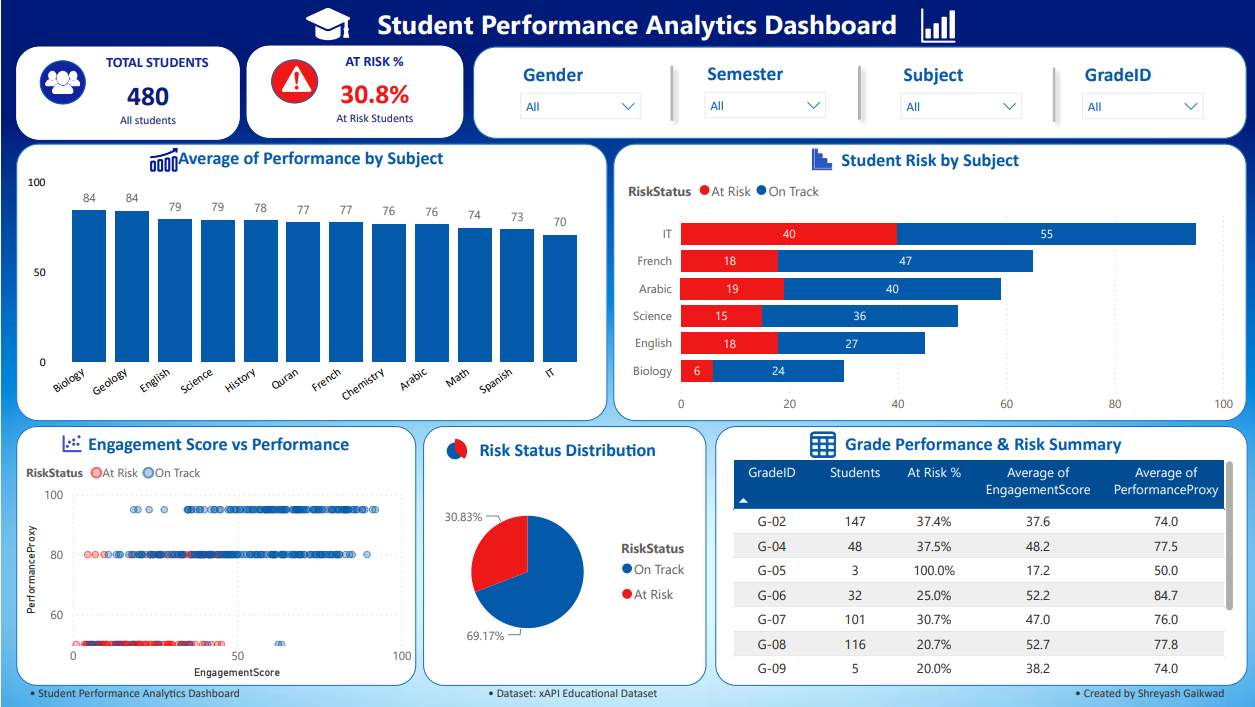

The dashboard page shown, as its layout file describes it:
{"tool":"powerbi","page":{"name":"Dashboard","canvas":[1280,720],"ordinal":0},"visuals":[{"type":"textbox","box":[369.1,0,559.1,50.9],"z":0},{"type":"shape","box":[249.8,46.2,220.8,94.1],"z":0,"group":"g6"},{"type":"shape","box":[15,46.8,227.5,95],"z":0,"group":"g3"},{"type":"shape","box":[481.2,46.8,788.8,94],"z":0,"group":"g8"},{"type":"shape","box":[15,146,602.5,282.5],"z":0,"group":"g2"},{"type":"shape","box":[623.8,146,646.2,282.5],"z":0,"group":"g5"},{"type":"group","id":"g1","title":"ScatterPlot","box":[15,434,407.5,265],"z":0},{"type":"shape","box":[15,434,407.5,265],"z":0,"group":"g1"},{"type":"shape","box":[430.2,434.2,288.8,265],"z":0,"group":"g4"},{"type":"shape","box":[727.8,434.2,542.5,265],"z":0,"group":"g7"},{"type":"image","box":[307.3,1.8,51.8,44.5],"z":1000},{"type":"slicer","fields":{"Values":["StudentPerformance.gender"]},"box":[518.7,58,143.8,72.5],"z":1000,"group":"g8"},{"type":"cardVisual","fields":{"Data":["StudentPerformance.At Risk %"]},"box":[306.8,69.5,148.4,70],"z":1000,"group":"g6"},{"type":"cardVisual","fields":{"Data":["StudentPerformance.Total Students"]},"box":[86.2,69.6,127.5,70],"z":1000,"group":"g3"},{"type":"group","id":"g2","title":"Clustered CloumnChart","box":[15,146,602.5,283.2],"z":1000},{"type":"clusteredColumnChart","title":"Average of Performance by Topic","fields":{"Category":["StudentPerformance.Topic"],"Y":["Avg(StudentPerformance.PerformanceProxy)"]},"box":[21.5,149.2,588.2,280],"z":1000,"group":"g2"},{"type":"barChart","title":"Student Risk by Subject","fields":{"Category":["StudentPerformance.Topic"],"Series":["StudentPerformance.RiskStatus"],"Y":["StudentPerformance.Total Students"]},"box":[634.3,151,626.4,278.2],"z":1000,"group":"g5"},{"type":"scatterChart","title":"Engagement Score vs Performance","fields":{"X":["StudentPerformance.EngagementScore"],"Y":["StudentPerformance.PerformanceProxy"],"Series":["StudentPerformance.RiskStatus"]},"box":[20,440.2,402.5,256.2],"z":1000,"group":"g1"},{"type":"image","box":[821.6,440.4,30.8,25.8],"z":1000,"group":"g7"},{"type":"pieChart","title":"Risk Status Distribution","fields":{"Category":["StudentPerformance.RiskStatus"],"Y":["StudentPerformance.Total Students"]},"box":[436.4,446.7,282.5,250],"z":1000,"group":"g4"},{"type":"image","box":[936.4,8.2,38.2,34.5],"z":2000},{"type":"group","id":"g3","title":"Total Student Card","box":[15,46.8,227.5,95],"z":2000},{"type":"slicer","fields":{"Values":["StudentPerformance.Semester"]},"box":[707.2,57.1,143.8,73.1],"z":2000,"group":"g8"},{"type":"shape","box":[275,60.5,47.5,45],"z":2000,"group":"g6"},{"type":"shape","box":[38.8,60.6,47.5,45],"z":2000,"group":"g3"},{"type":"image","box":[820.8,149,31.5,26.2],"z":2000,"group":"g5"},{"type":"image","box":[149.7,149.2,30.9,26.4],"z":2000,"group":"g2"},{"type":"image","box":[55.5,438.8,31.1,26.1],"z":2000,"group":"g1"},{"type":"tableEx","title":"Grade Performance & Risk Summary","fields":{"Values":["StudentPerformance.GradeID","StudentPerformance.Total Students","StudentPerformance.At Risk %","Avg(StudentPerformance.EngagementScore)","Avg(StudentPerformance.PerformanceProxy)"]},"box":[740.3,440.4,521.2,256.2],"z":2000,"group":"g7"},{"type":"image","box":[449,445,31.2,25.6],"z":2000,"group":"g4"},{"type":"slicer","fields":{"Values":["StudentPerformance.Topic"]},"box":[907.2,57.9,143.8,73.1],"z":3000,"group":"g8"},{"type":"image","box":[277.4,65.5,45,30],"z":3000,"group":"g6"},{"type":"image","box":[40.9,65.6,42.9,35],"z":3000,"group":"g3"},{"type":"group","id":"g4","title":"Pie Chart","box":[430.2,434.2,288.8,265],"z":3000},{"type":"slicer","fields":{"Values":["StudentPerformance.GradeID"]},"box":[1092.4,58,143.8,72.5],"z":4000,"group":"g8"},{"type":"group","id":"g5","title":"StackedBarChart","box":[623.8,146,646.2,283.2],"z":4000},{"type":"group","id":"g6","title":"At Risk % Card","box":[249.8,46.2,220.8,94.1],"z":5000},{"type":"shape","box":[673.3,57.9,21.5,73.1],"z":5000,"group":"g8"},{"type":"shape","box":[864.9,57.9,20.8,71.5],"z":6000,"group":"g8"},{"type":"group","id":"g7","title":"Table","box":[727.8,434.2,542.5,265],"z":6000},{"type":"group","id":"g8","title":"Slicer","box":[481.2,46.8,788.8,94],"z":7000},{"type":"shape","box":[1062.7,59.6,21,72],"z":7000,"group":"g8"},{"type":"textbox","box":[23.7,691.3,1253.5,29],"z":8001}]}

Visuals, with their boxes in screenshot pixels (x1, y1, x2, y2), scaled from the page's 1280x720 canvas onto the 1255x707 screenshot:
textbox: 362:0:910:50
shape: 245:45:461:138
shape: 15:46:238:139
shape: 472:46:1245:138
shape: 15:143:605:421
shape: 612:143:1245:421
"ScatterPlot" group: 15:426:414:686
shape: 15:426:414:686
shape: 422:426:705:687
shape: 714:426:1245:687
image: 301:2:352:45
slicer - StudentPerformance.gender: 509:57:650:128
cardVisual - StudentPerformance.At Risk %: 301:68:446:137
cardVisual - StudentPerformance.Total Students: 85:68:210:137
"Clustered CloumnChart" group: 15:143:605:421
"Average of Performance by Topic" clusteredColumnChart: 21:147:598:421
"Student Risk by Subject" barChart: 622:148:1236:421
"Engagement Score vs Performance" scatterChart: 20:432:414:684
image: 806:432:836:458
"Risk Status Distribution" pieChart: 428:439:705:684
image: 918:8:956:42
"Total Student Card" group: 15:46:238:139
slicer - StudentPerformance.Semester: 693:56:834:128
shape: 270:59:316:104
shape: 38:60:85:104
image: 805:146:836:172
image: 147:147:177:172
image: 54:431:85:457
"Grade Performance & Risk Summary" tableEx: 726:432:1237:684
image: 440:437:471:462
slicer - StudentPerformance.Topic: 889:57:1030:129
image: 272:64:316:94
image: 40:64:82:99
"Pie Chart" group: 422:426:705:687
slicer - StudentPerformance.GradeID: 1071:57:1212:128
"StackedBarChart" group: 612:143:1245:421
"At Risk % Card" group: 245:45:461:138
shape: 660:57:681:129
shape: 848:57:868:127
"Table" group: 714:426:1245:687
"Slicer" group: 472:46:1245:138
shape: 1042:59:1063:129
textbox: 23:679:1252:706
